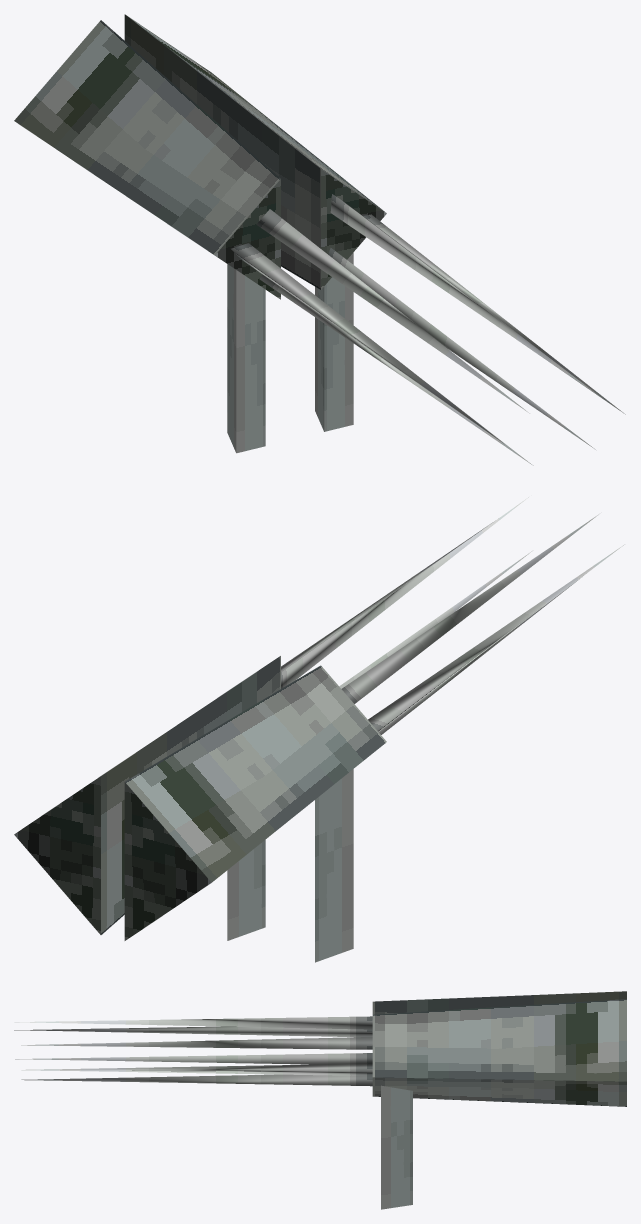
File: ywing_weapon2_s04_l3.fbx
The picture shows the model from 3 angles, top to bottom: view 1: azimuth 30°, elevation 25°; view 2: azimuth 150°, elevation 25°; view 3: azimuth 270°, elevation 25°; orthographic projection. The views are drawn at different scales.
Visible parts, largest first — view 1: mesh_node; view 2: mesh_node; view 3: mesh_node.
Part boxes in pixels (<box>): mesh_node: <box>14,14,625,465</box>; mesh_node: <box>14,497,624,962</box>; mesh_node: <box>14,991,626,1209</box>.
Bounding box in the file's own units: 0.4805 × 0.6706 × 1.91.
Materials: 1 (1 with a texture image).
